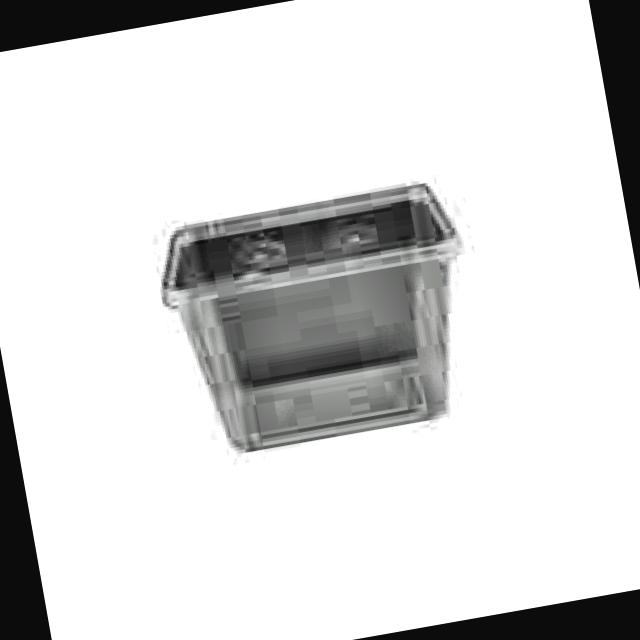plastic container: (162, 183, 459, 449)
